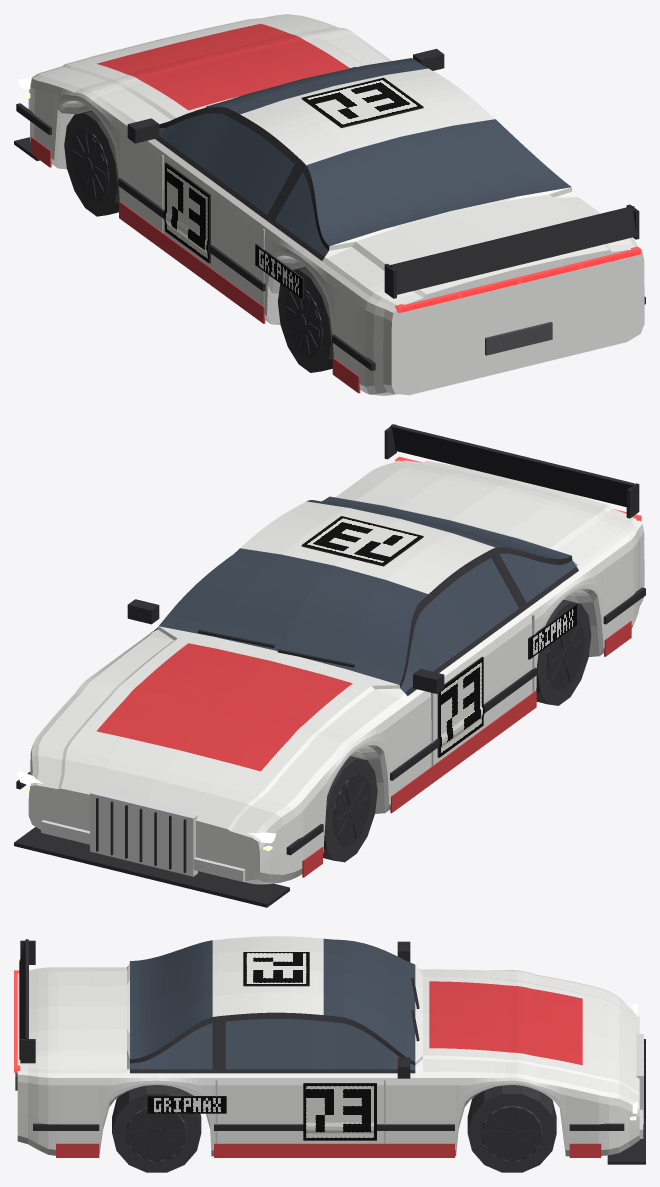
File: cup_camry.glb
The picture shows the model from 3 angles, top to bottom: view 1: azimuth 30°, elevation 25°; view 2: azimuth 150°, elevation 25°; view 3: azimuth 270°, elevation 25°; orthographic projection. The views are drawn at different scales.
Parts seen in each view (by area): view 1: body.002, livery.002, wheel_FL.002, wheel_RL.002; view 2: body.002, livery.002, wheel_FL.002, wheel_RL.002; view 3: body.002, livery.002, wheel_FR.002, wheel_RR.002.
Boxes of the visible parts, <box> form: body.002: <box>14,14,645,395</box>; livery.002: <box>31,23,423,393</box>; wheel_FL.002: <box>64,110,119,216</box>; wheel_RL.002: <box>278,267,333,372</box>; body.002: <box>14,424,645,907</box>; livery.002: <box>97,516,631,877</box>; wheel_FL.002: <box>323,756,377,862</box>; wheel_RL.002: <box>536,600,591,705</box>; body.002: <box>14,936,645,1164</box>; livery.002: <box>56,952,601,1157</box>; wheel_FR.002: <box>467,1085,556,1172</box>; wheel_RR.002: <box>112,1085,201,1172</box>.
Size of the model in its own units: 2.33 by 1.31 by 4.96.
Materials: 15 (5 with a texture image).
